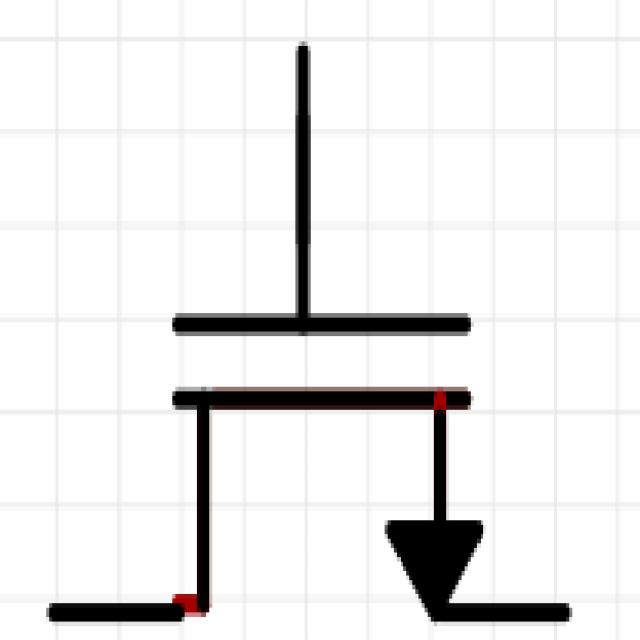nmos: (48, 29, 585, 640)
